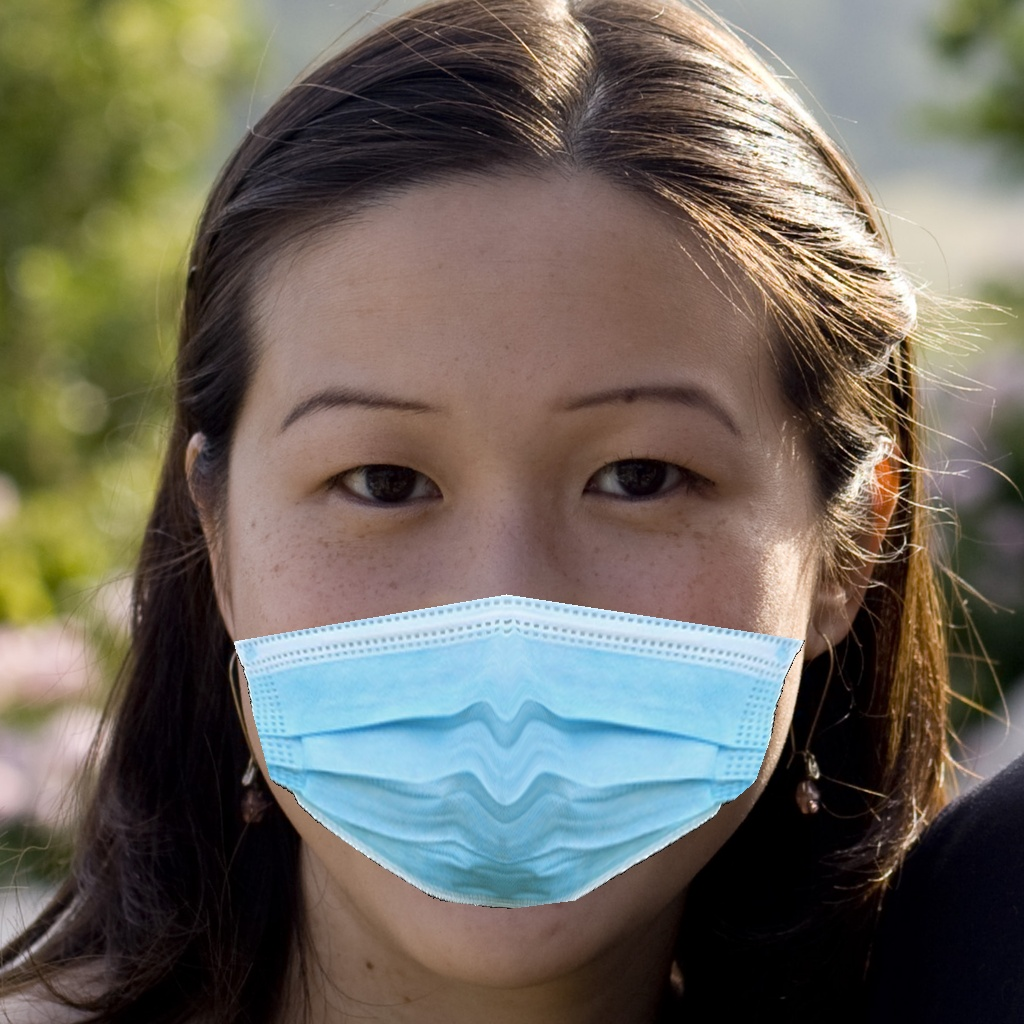mask_weared_incorrect: (198, 355, 852, 936)
